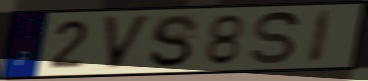2: (50, 18, 92, 71)
8: (204, 13, 245, 66)
I: (306, 9, 334, 66)
S: (147, 13, 201, 70), (250, 9, 302, 67)
V: (101, 13, 154, 72)
